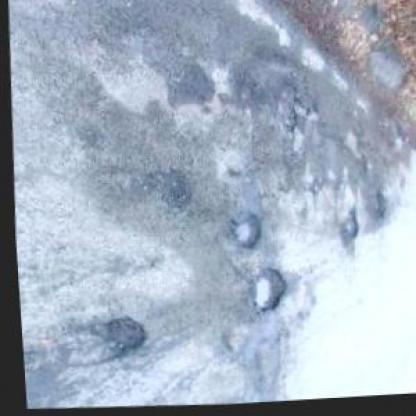pothole: (164, 66, 215, 111), (247, 268, 287, 318), (100, 316, 144, 355), (154, 166, 191, 212), (223, 216, 265, 255), (230, 72, 265, 111), (338, 208, 358, 243), (366, 194, 386, 223), (280, 116, 297, 134), (291, 104, 309, 119)
